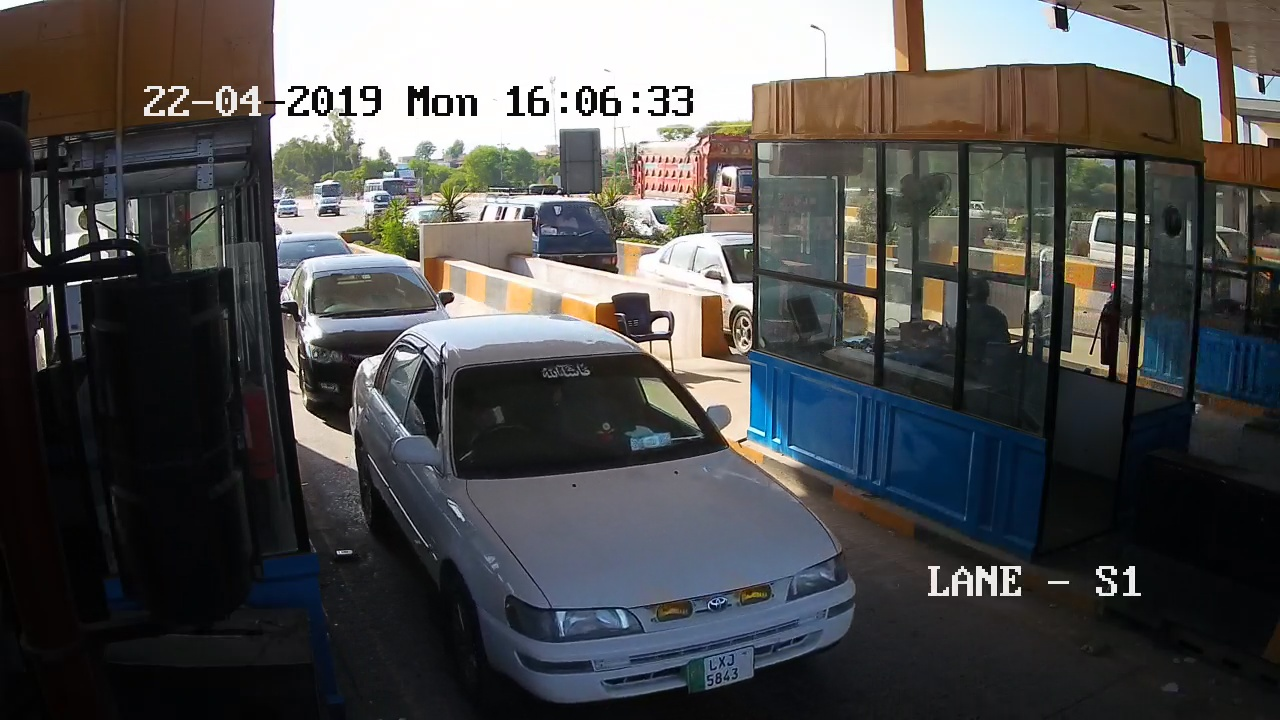Number Plate (Car): (688, 651, 754, 690)
